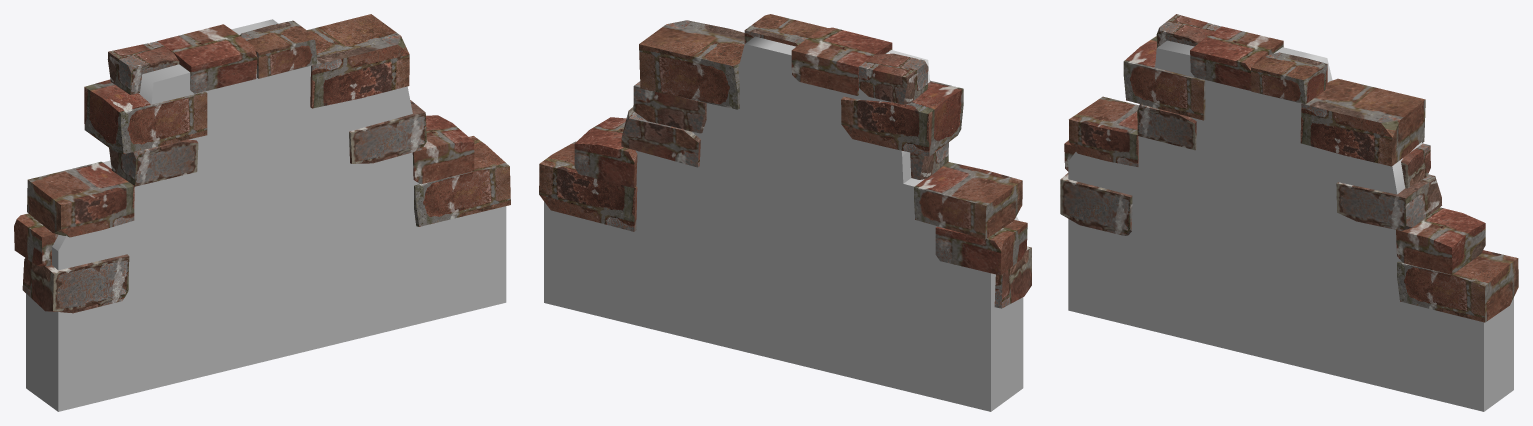
The model's file is SM_Wall_Ruined_03.fbx.
3 views of the same model, side by side, from view 1: azimuth 30°, elevation 25°; view 2: azimuth 150°, elevation 25°; view 3: azimuth 330°, elevation 25° (orthographic). The views are drawn at different scales.
Parts seen in each view (by area): view 1: SM_Wall_Ruined_03_LOD0; view 2: SM_Wall_Ruined_03_LOD0; view 3: SM_Wall_Ruined_03_LOD0.
Part boxes in pixels (left/top/right/bottom): SM_Wall_Ruined_03_LOD0: left=14, top=14, right=510, bottom=411; SM_Wall_Ruined_03_LOD0: left=539, top=14, right=1031, bottom=411; SM_Wall_Ruined_03_LOD0: left=1060, top=14, right=1518, bottom=411.
Size of what is drawn, in the model's own units: 413 by 269 by 60.04.
